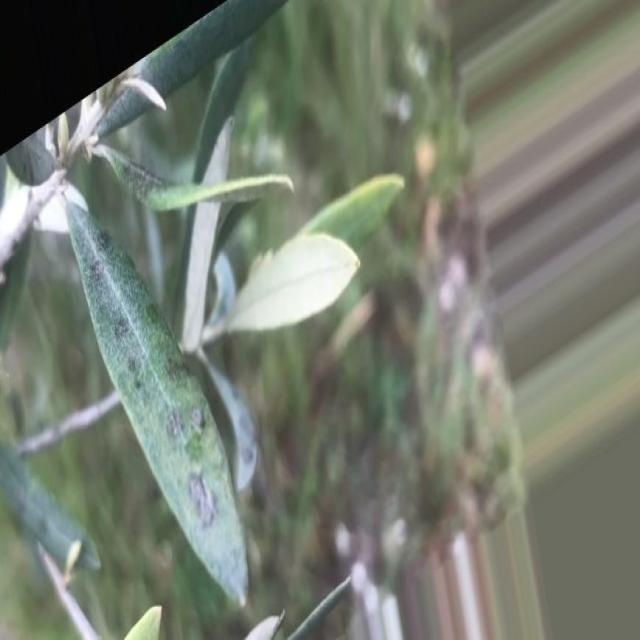Peacock Eye: (64, 201, 247, 604)
